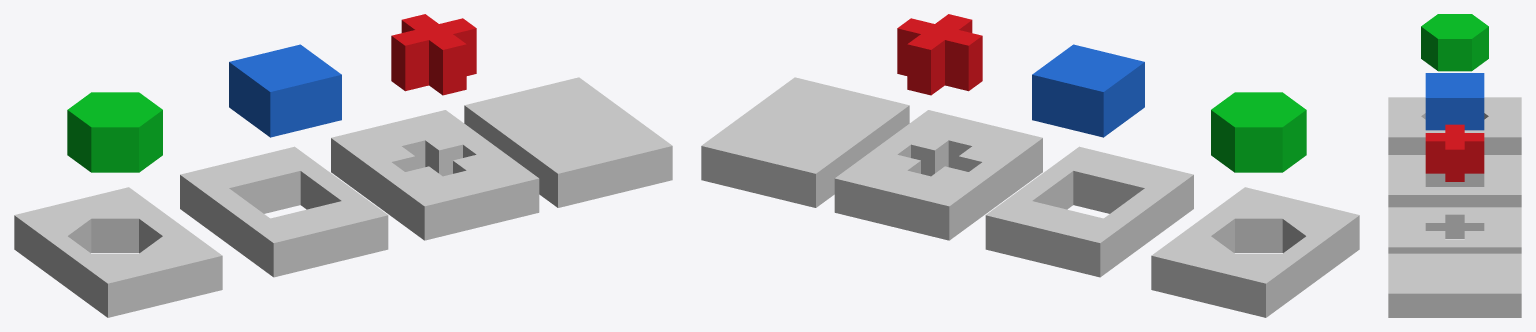
File: Blocos.fbx
3 views of the same model, side by side, from view 1: azimuth 30°, elevation 25°; view 2: azimuth 150°, elevation 25°; view 3: azimuth 270°, elevation 25° (orthographic). The views are drawn at different scales.
Visible parts, largest first — view 1: Cube.002, Cube.003, Cube.001, Cube, Cylinder.002, Cylinder, Cylinder.001; view 2: Cube.002, Cube.003, Cube.001, Cube, Cylinder.002, Cylinder, Cylinder.001; view 3: Cube, Cube.003, Cube.001, Cube.002, Cylinder, Cylinder.002, Cylinder.001.
Part boxes in pixels (x1,y1,x2,y2): Cube.002: (14, 187, 222, 317); Cube.003: (331, 110, 539, 240); Cube.001: (180, 146, 388, 277); Cube: (464, 77, 672, 207); Cylinder.002: (229, 44, 341, 137); Cylinder: (67, 92, 162, 172); Cylinder.001: (391, 14, 476, 95); Cube.002: (1151, 187, 1359, 317); Cube.003: (834, 110, 1042, 240); Cube.001: (985, 146, 1193, 277); Cube: (701, 77, 909, 207); Cylinder.002: (1032, 44, 1144, 137); Cylinder: (1211, 92, 1306, 172); Cylinder.001: (897, 14, 982, 95); Cube: (1388, 253, 1521, 317); Cube.003: (1388, 207, 1521, 253); Cube.001: (1388, 155, 1521, 207); Cube.002: (1388, 97, 1521, 154); Cylinder: (1421, 14, 1488, 71); Cylinder.002: (1425, 73, 1484, 130); Cylinder.001: (1425, 124, 1484, 181).
Bounding box in the file's own units: 13.66 × 3.71 × 3.92.
